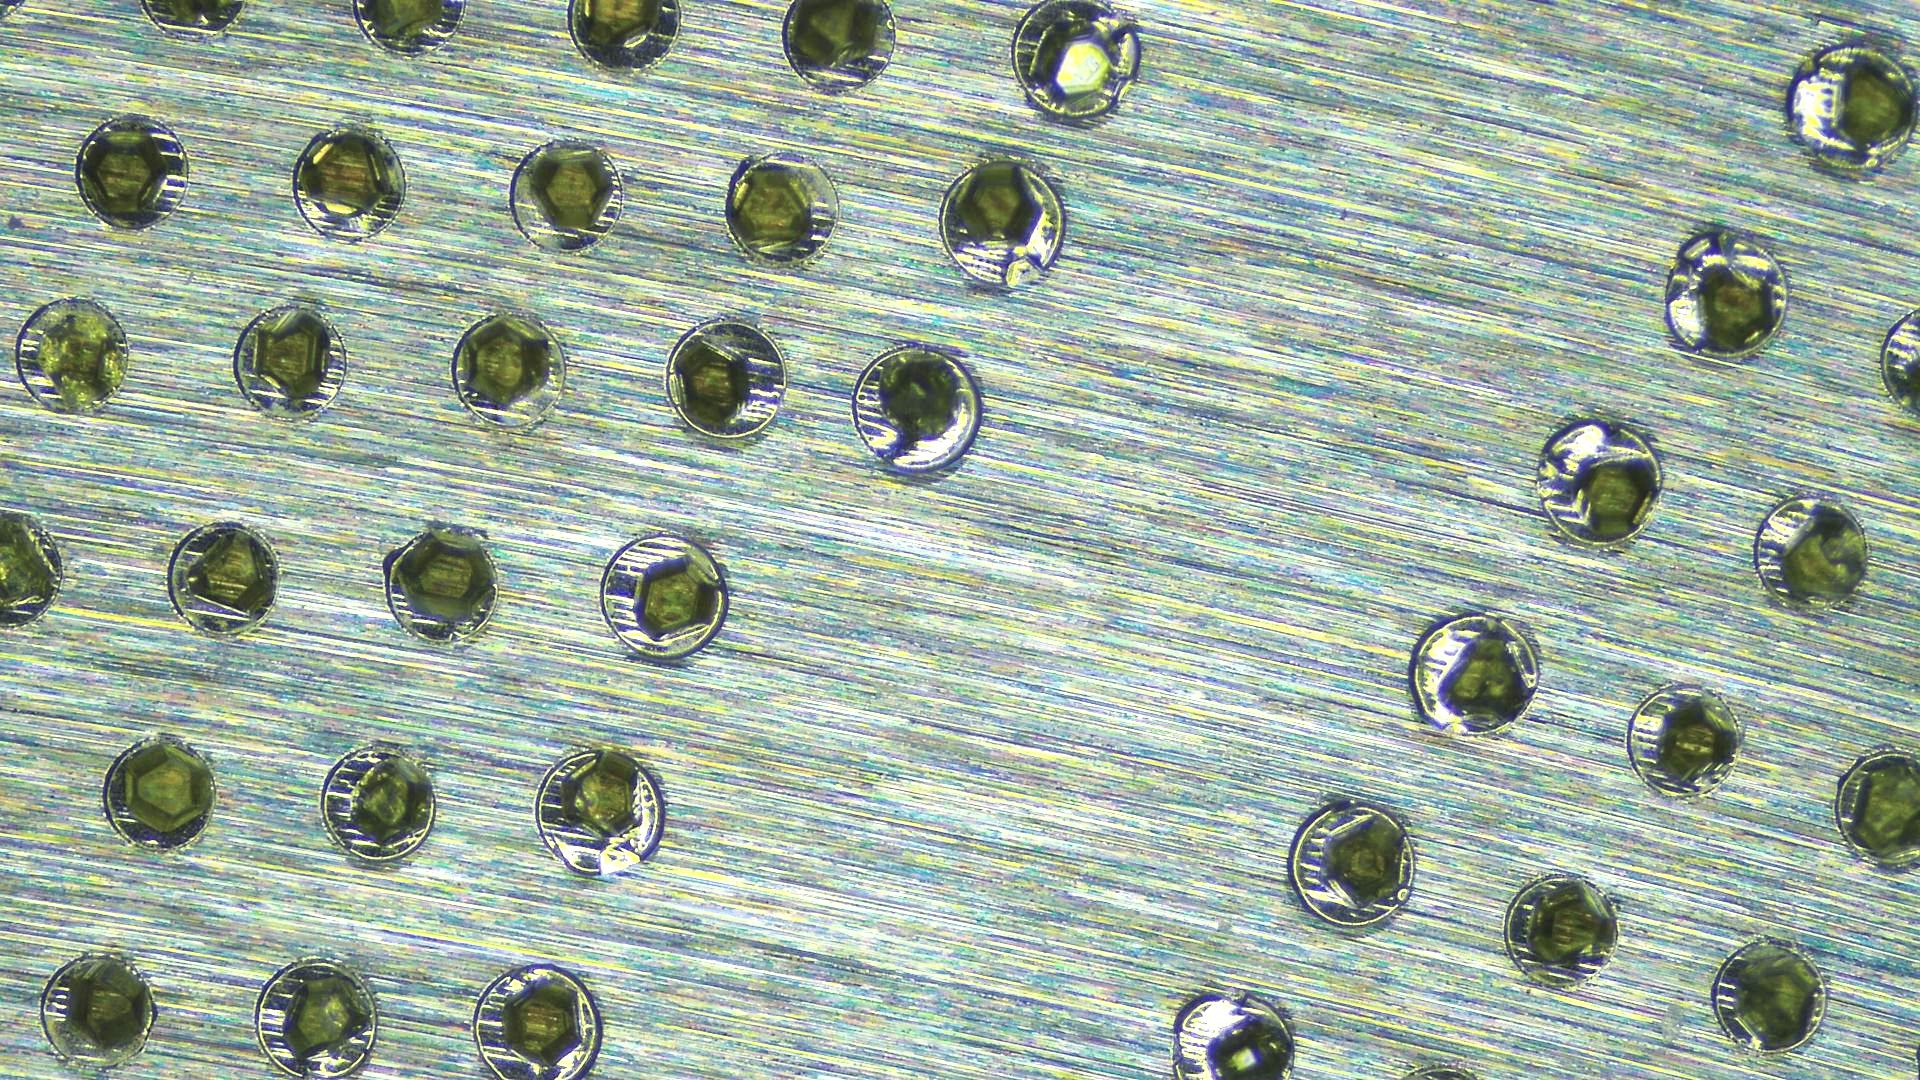fault: (855, 344, 984, 473)
